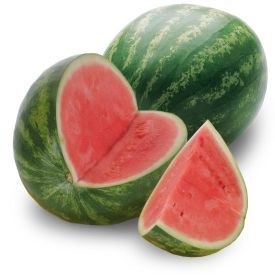watermelon: (15, 56, 172, 241), (113, 2, 267, 158), (162, 116, 246, 263)
